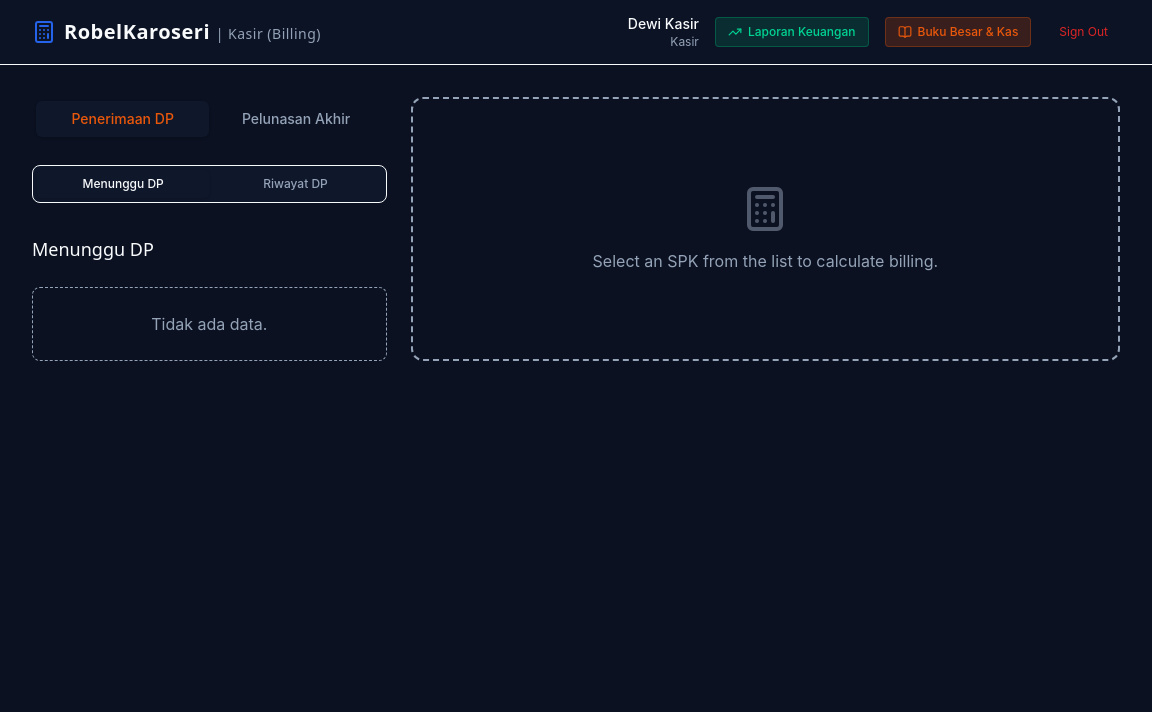
Test: Component: KasirDashboard (DP History Sub-Tab & Printable Receipt) › displays "Tautan Pelacakan Kedaluwarsa (>7 Hari)" in billing calculator when SPK was released more than 7 days ago
The width and height of the screenshot is (1152, 712).
// Switch to FINAL tab
Click the button "Pelunasan Akhir" at (296, 119), box [209,101,383,137]
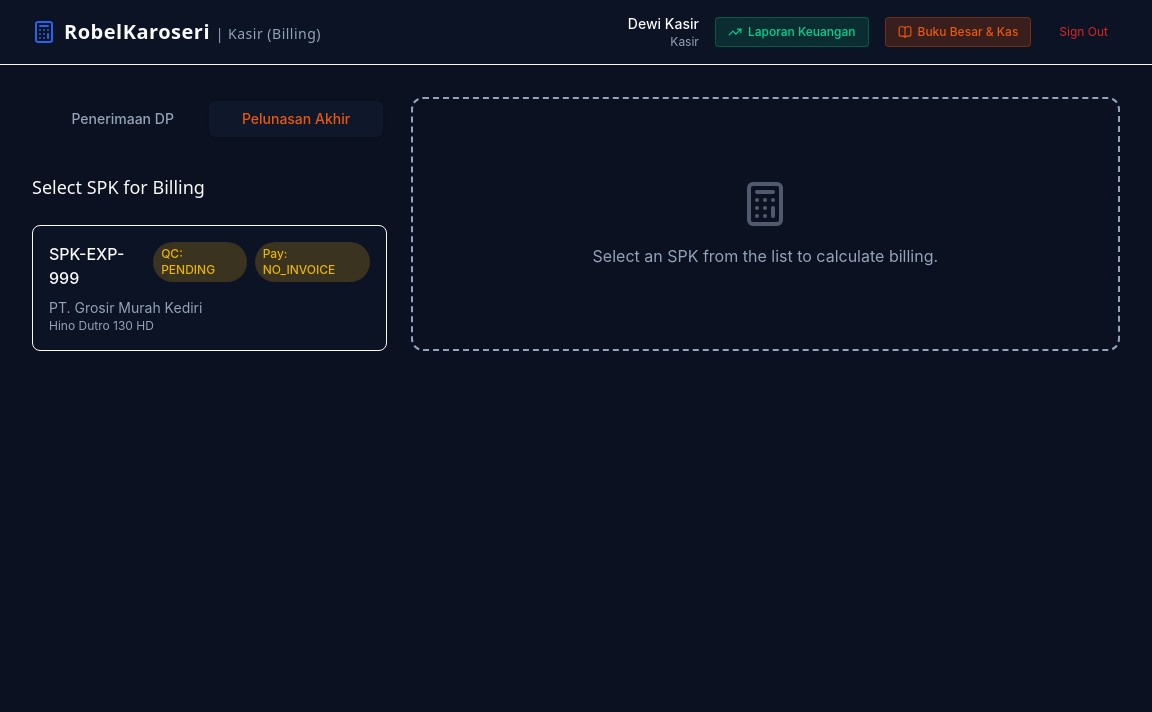
// Select the SPK
Click the heading "SPK-EXP-999" at (87, 266), box [49,244,124,288]
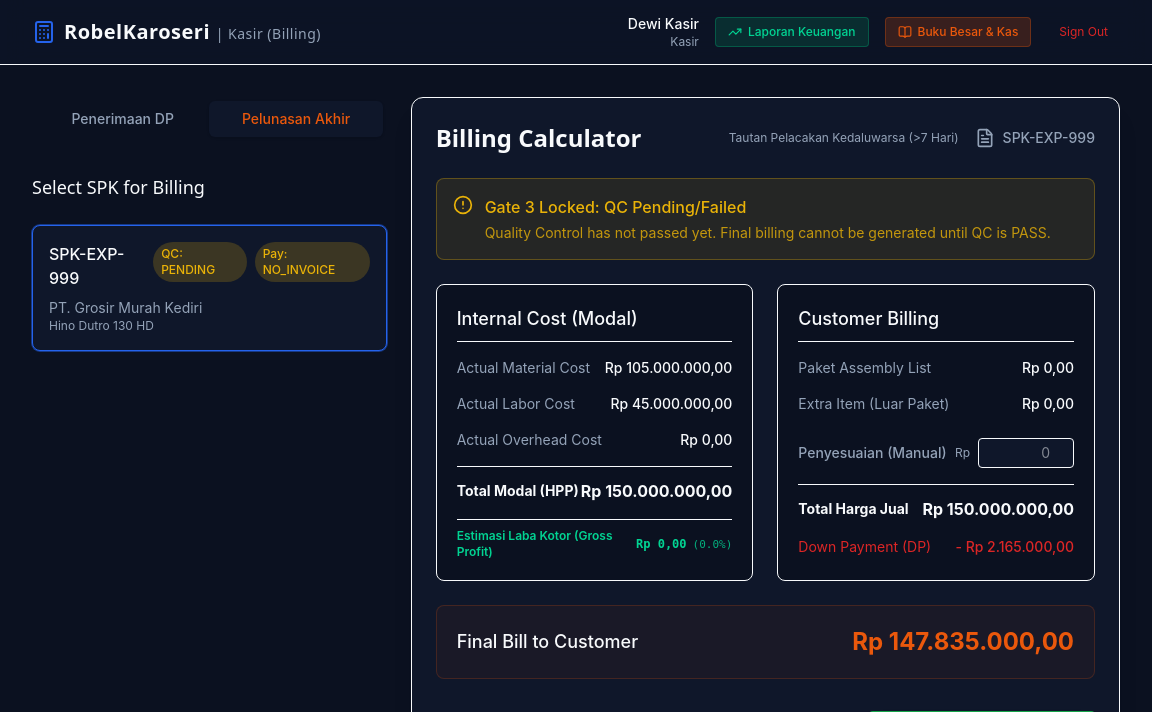
Expected: the text "Tautan Pelacakan Kedaluwarsa (>7 Hari)" is shown, [729,130,959,146]
